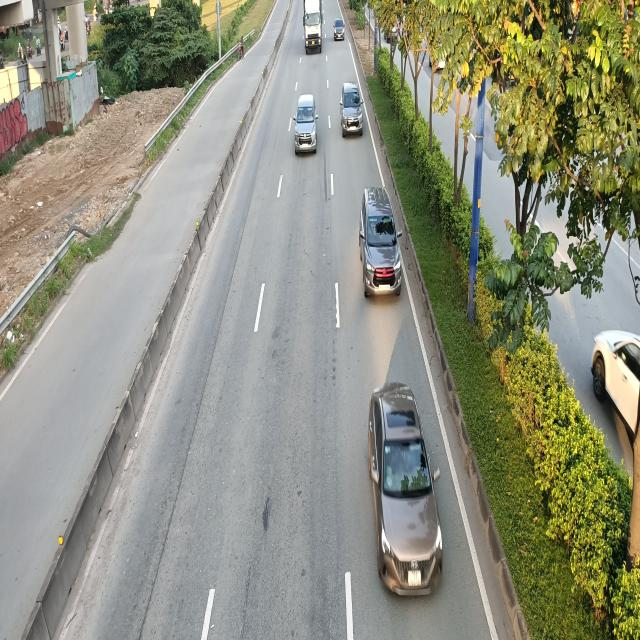car: (368, 384, 444, 597), (358, 185, 402, 296), (294, 94, 320, 155), (340, 83, 364, 137), (334, 17, 346, 42)
truck: (302, 0, 322, 53)
